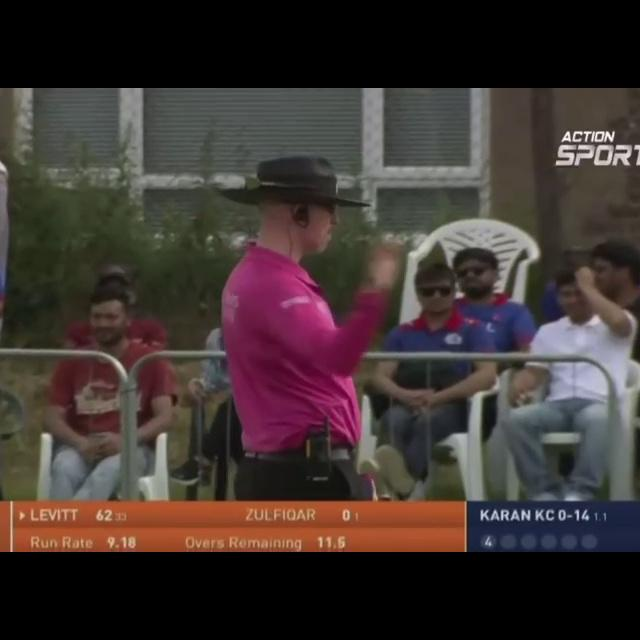umpire: (174, 134, 457, 461)
